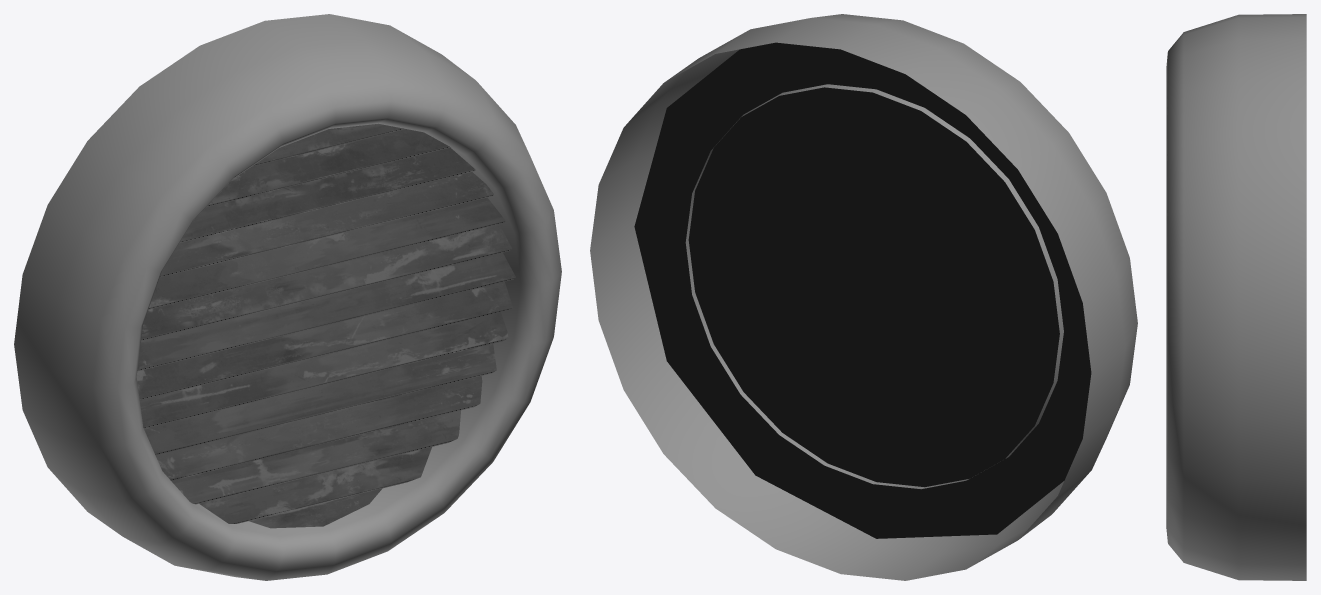
File: gridround_002.fbx
3 views of the same model, side by side, from view 1: azimuth 30°, elevation 25°; view 2: azimuth 150°, elevation 25°; view 3: azimuth 270°, elevation 25° (orthographic).
Visible parts, largest first — view 1: gridround_002; view 2: gridround_002; view 3: gridround_002.
Part boxes in pixels (x1,y1,x2,y2): gridround_002: (14,14,561,580); gridround_002: (590,14,1137,580); gridround_002: (1166,14,1306,580).
Bounding box in the file's own units: 1134 × 280 × 1134.
